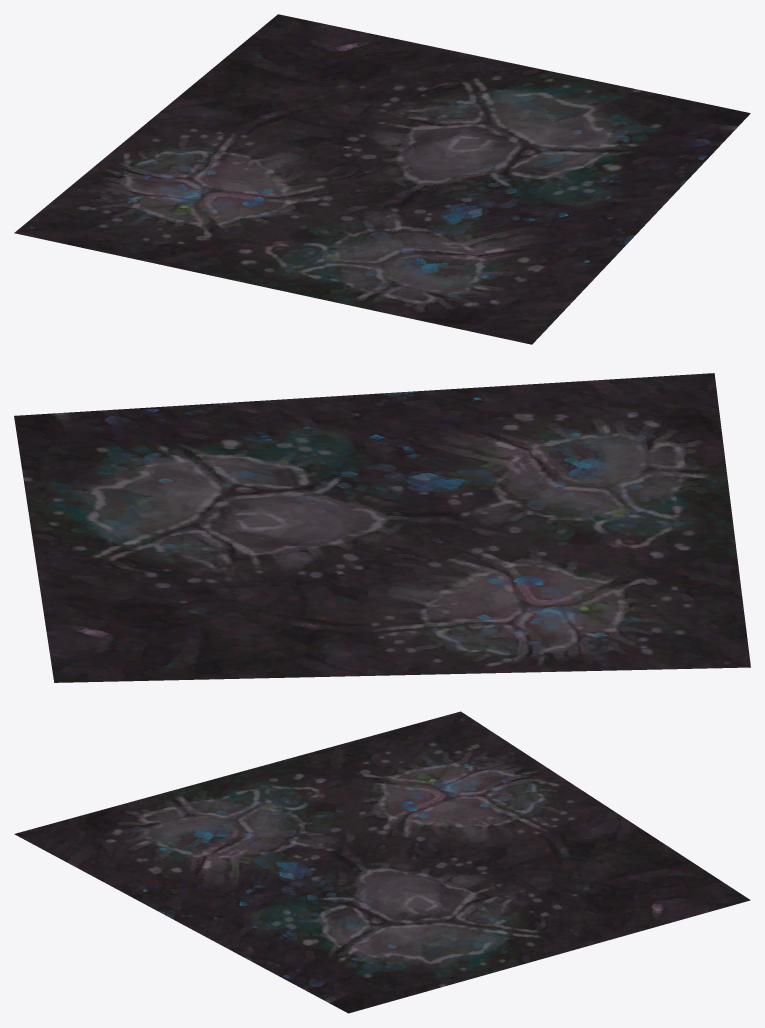
Rendered from cave_floor_mushrooms_10.fbx.
3 views of the same model, one above another, from view 1: azimuth 30°, elevation 25°; view 2: azimuth 150°, elevation 25°; view 3: azimuth 270°, elevation 25° (orthographic). The views are drawn at different scales.
Parts seen in each view (by area): view 1: cave_tileset/Floormushrooms_02_mat; view 2: cave_tileset/Floormushrooms_02_mat; view 3: cave_tileset/Floormushrooms_02_mat.
Part boxes in pixels (left/top/right/bottom): cave_tileset/Floormushrooms_02_mat: left=14, top=14, right=750, bottom=344; cave_tileset/Floormushrooms_02_mat: left=14, top=373, right=750, bottom=682; cave_tileset/Floormushrooms_02_mat: left=14, top=711, right=750, bottom=1013.
Bounding box in the file's own units: 3.75 × 0 × 3.87.
